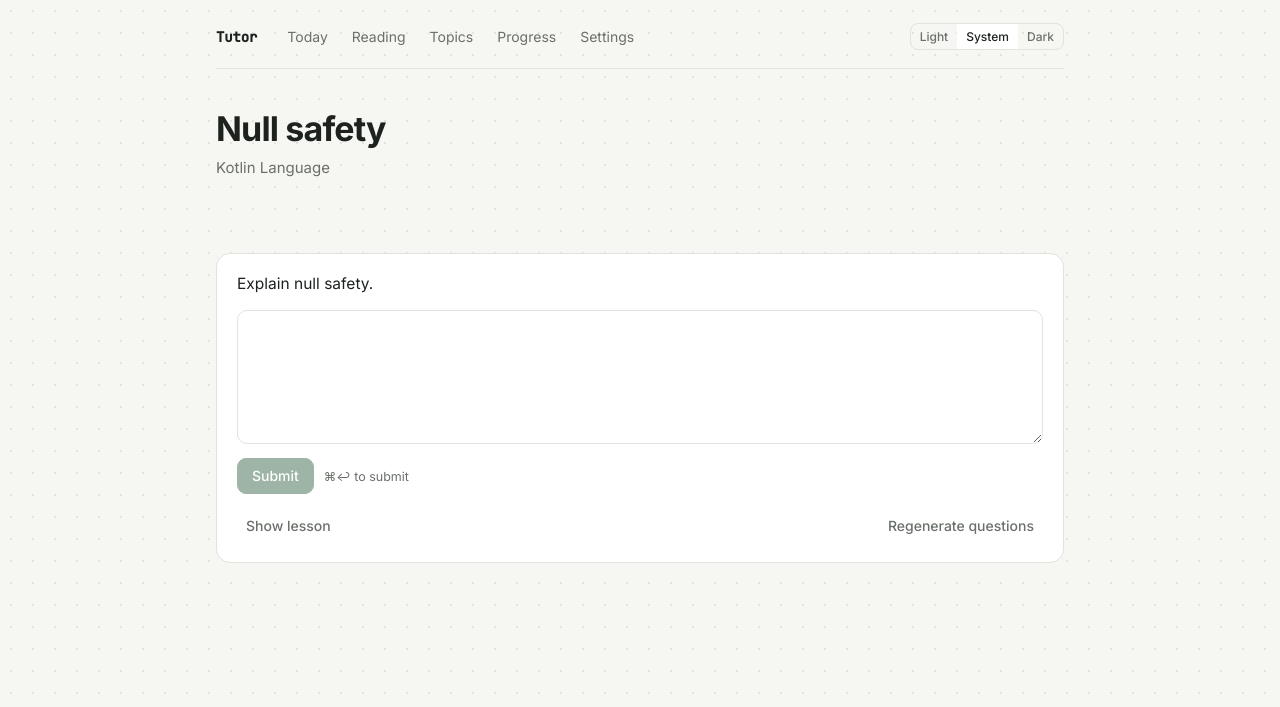
Test: failed open answer offers continue and appeal
Type "x" into the text box at (640, 377), box [237,310,1043,444]
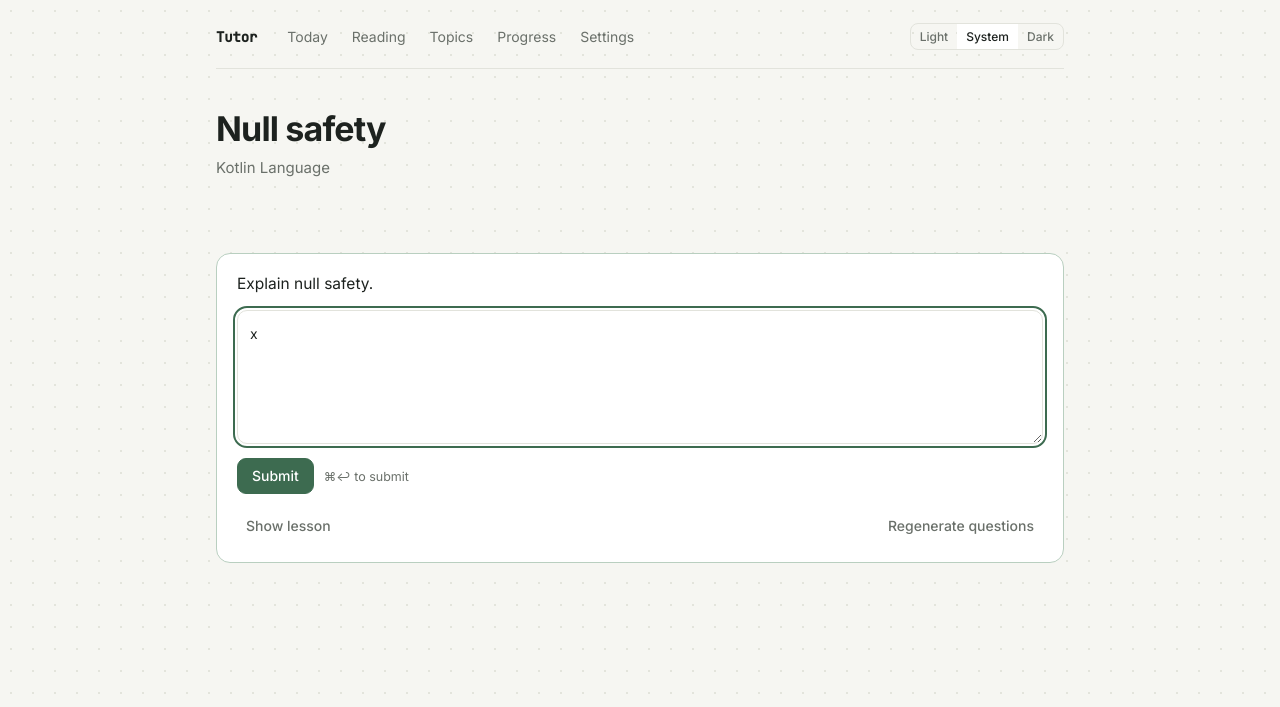
Click the button "Submit" at (275, 476), box [237,458,314,494]
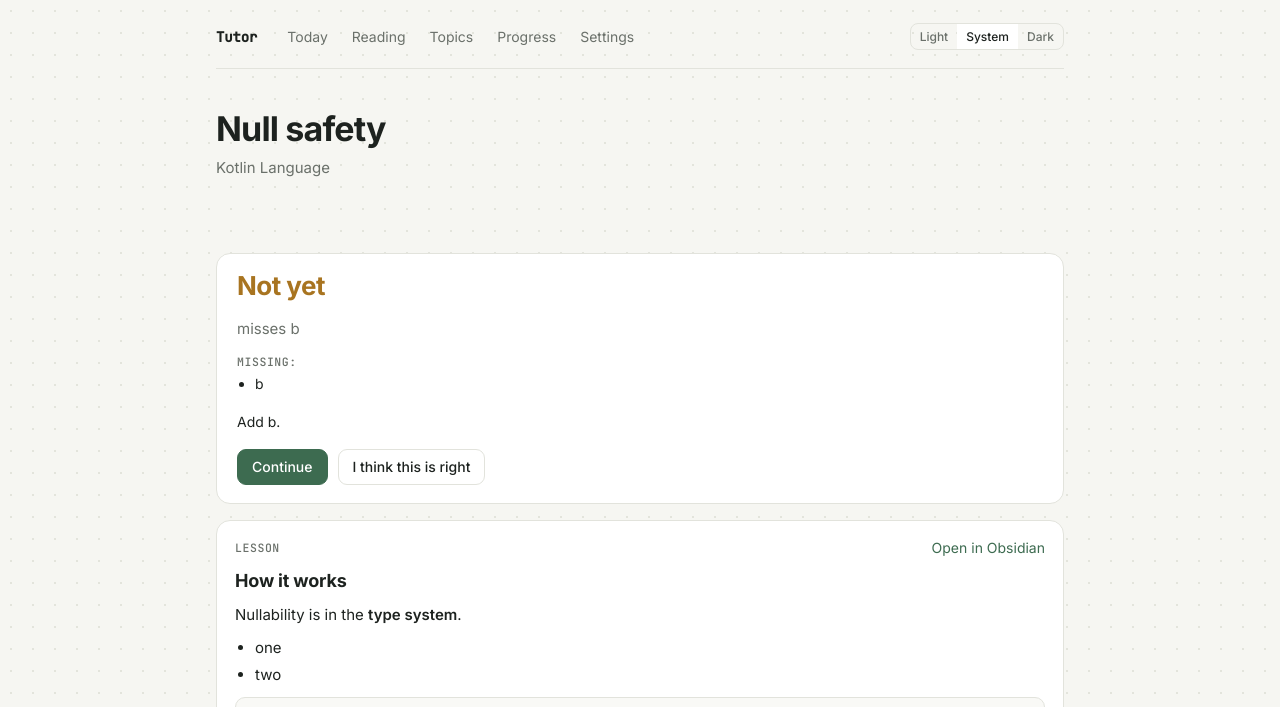
Check: the text "Not yet" is shown, box [237,270,325,301]
Check: the list item "b" is shown, box [255,375,264,392]
Check: the button "Continue" is shown, box [237,449,328,485]
Click the button "I think this is right" at (412, 467), box [338,449,486,485]
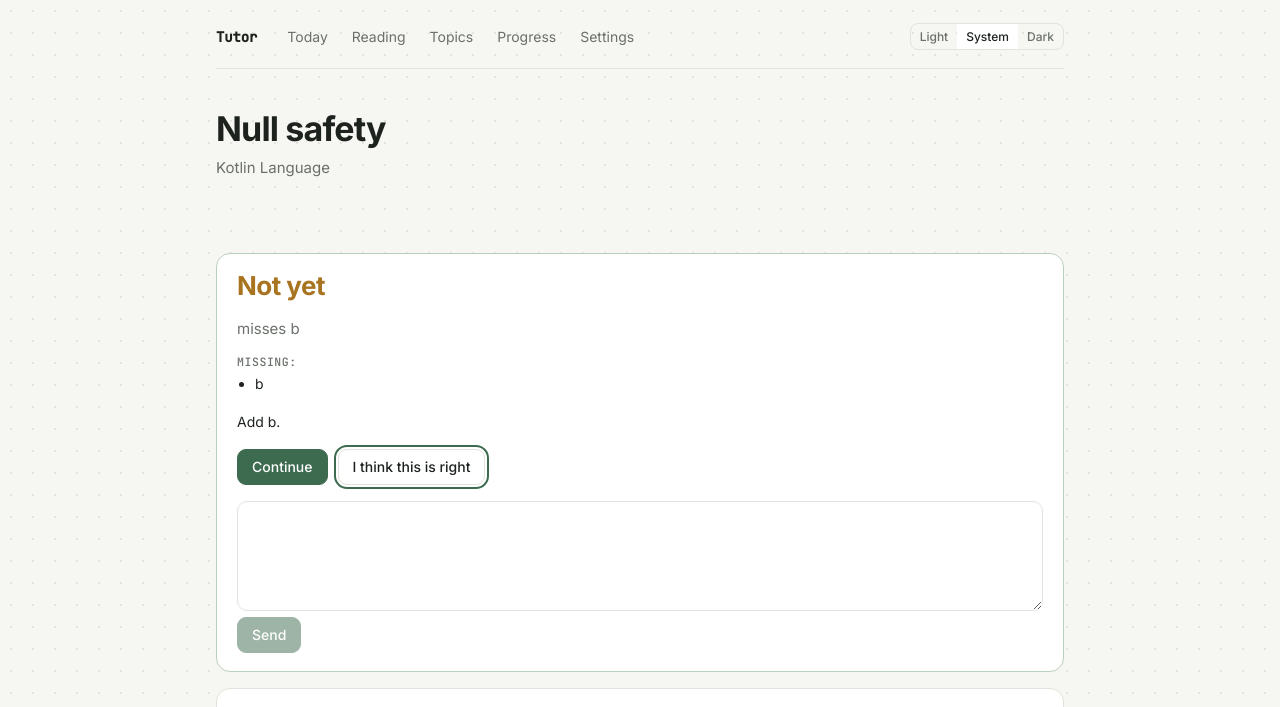
Type "I said b" into the text box named "Why your answer is right" at (640, 556), box [237,501,1043,611]
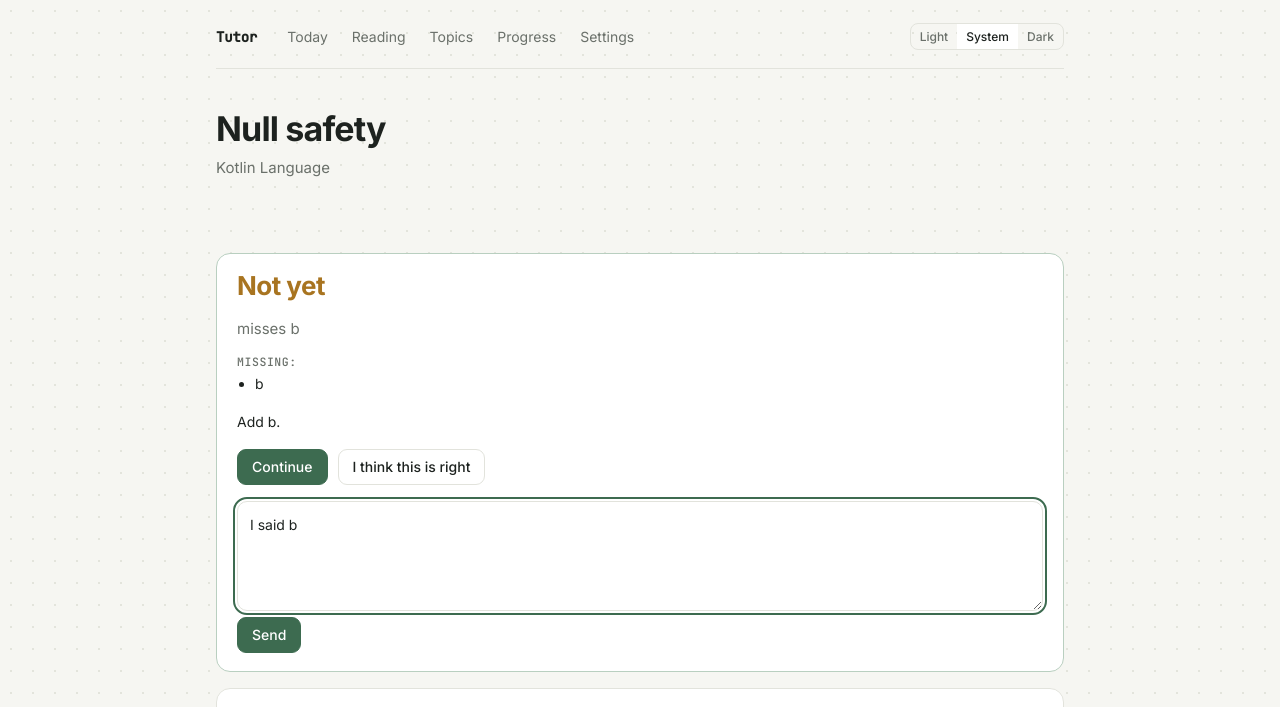
Click the button "Send" at (269, 635), box [237,617,301,653]
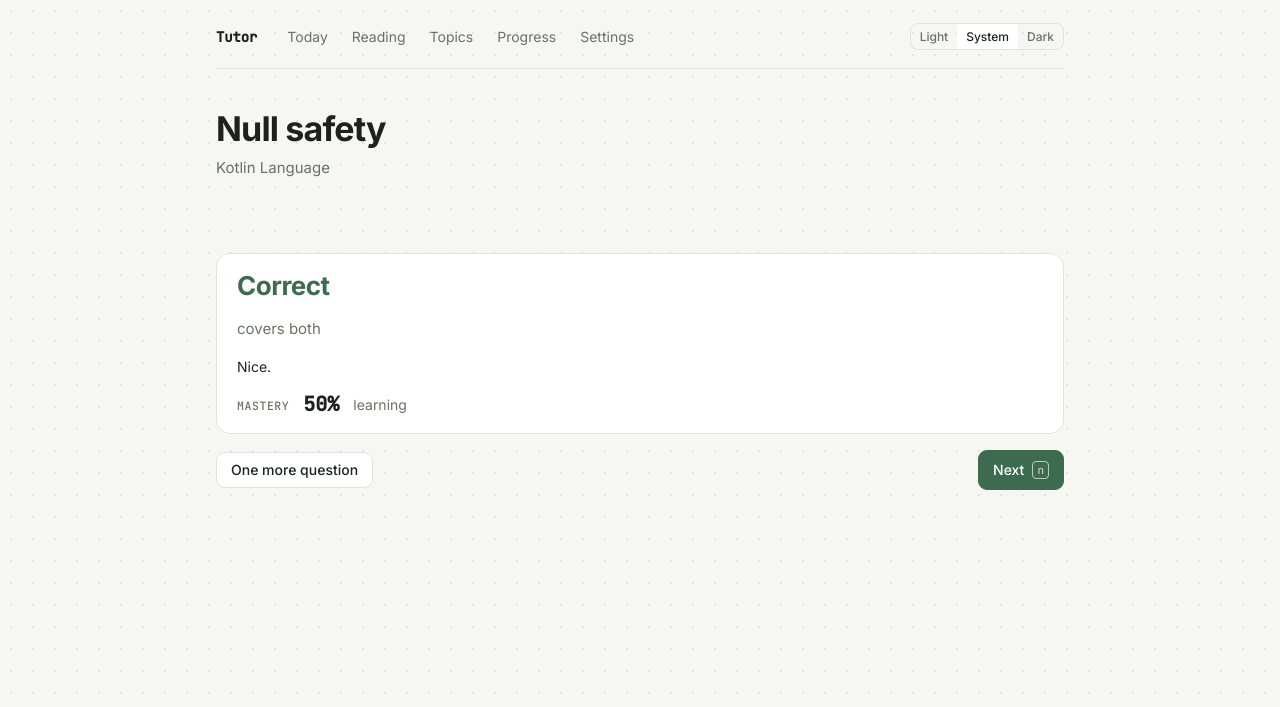
Check: the text "Correct" is shown, box [237,270,330,301]
